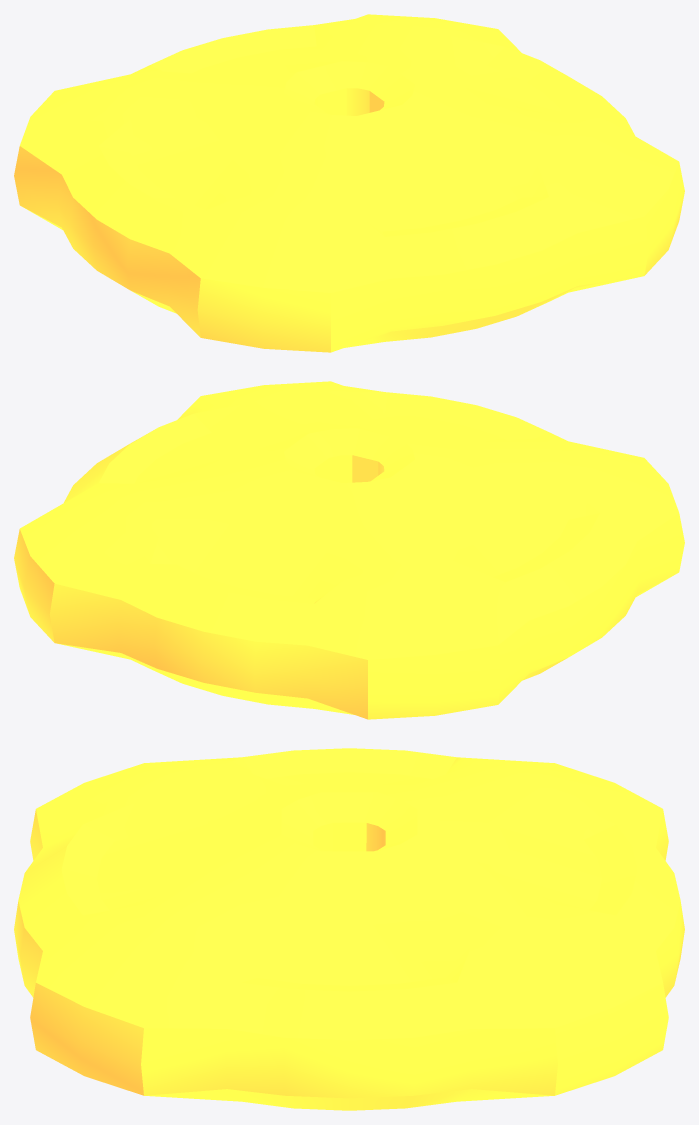
Rendered from structure_coheser_aegis.glb.
3 views of the same model, one above another, from view 1: azimuth 30°, elevation 25°; view 2: azimuth 150°, elevation 25°; view 3: azimuth 270°, elevation 25° (orthographic). The views are drawn at different scales.
Parts seen in each view (by area): view 1: 01_Structure_Coheser_aegis; view 2: 01_Structure_Coheser_aegis; view 3: 01_Structure_Coheser_aegis.
Part boxes in pixels (x1,y1,x2,y2): 01_Structure_Coheser_aegis: (14, 14, 684, 352); 01_Structure_Coheser_aegis: (14, 381, 684, 719); 01_Structure_Coheser_aegis: (14, 748, 684, 1110).
Bounding box in the file's own units: 1.06 × 0.374 × 1.06.
